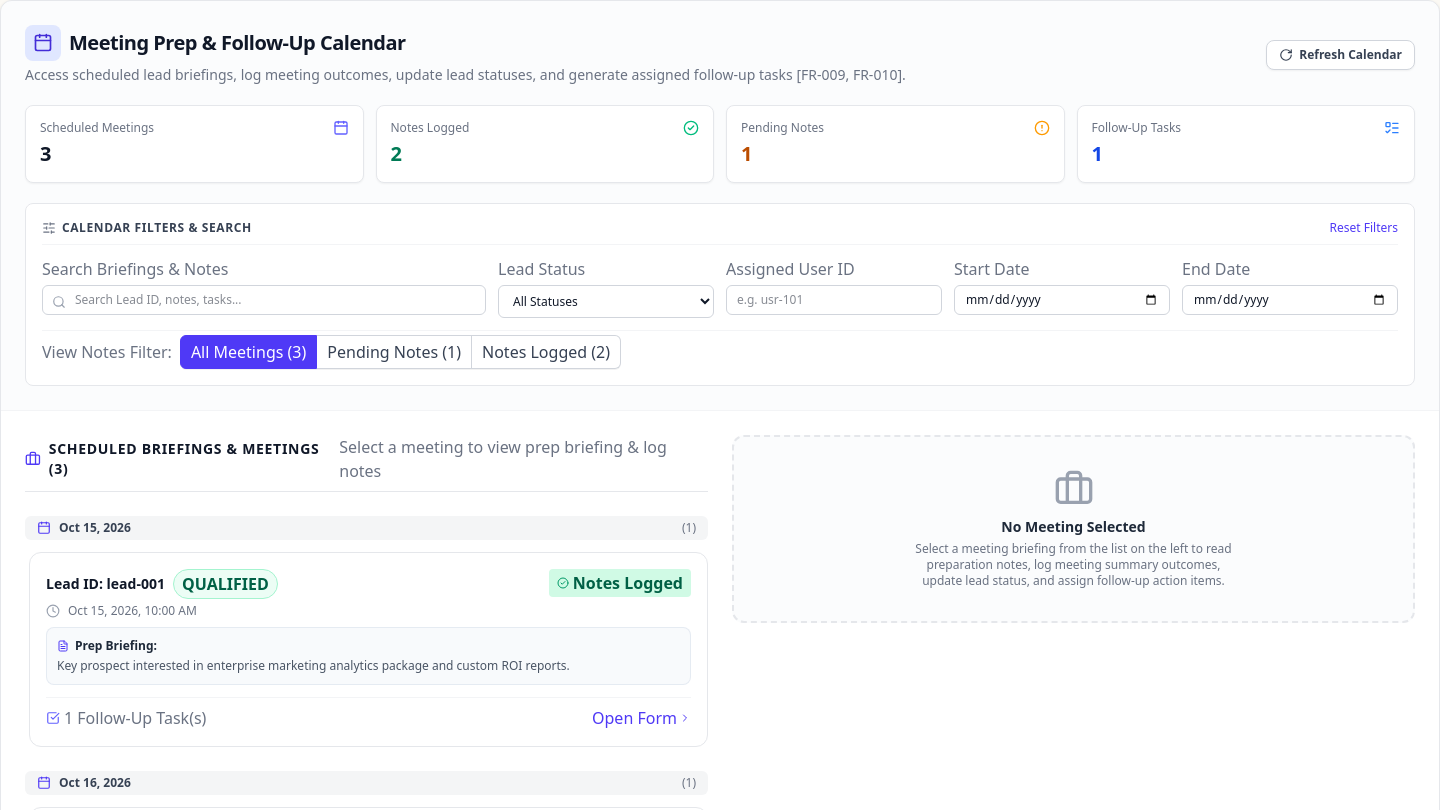
it: MeetingCalendar Component & Helpers [FR-009, FR-010] › Filtering & View Modes › filters meetings by status dropdown
Select "WON" in the dropdown with test id "status-filter-select" at x=606, y=302, box [498, 285, 714, 318]
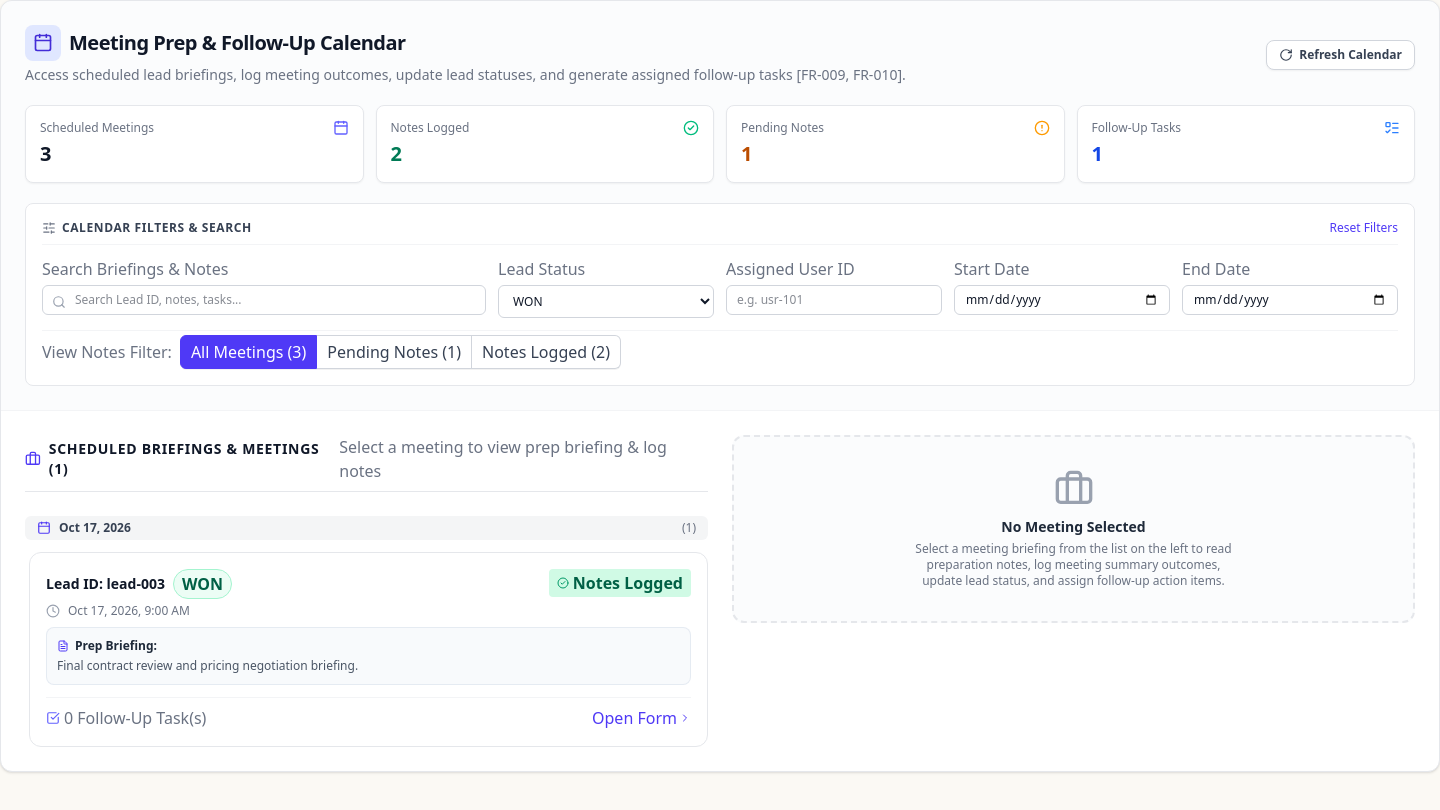
Expected: the text "Lead ID: lead-003" is shown, [46, 574, 165, 594]
Now the text "Lead ID: lead-001" is gone
